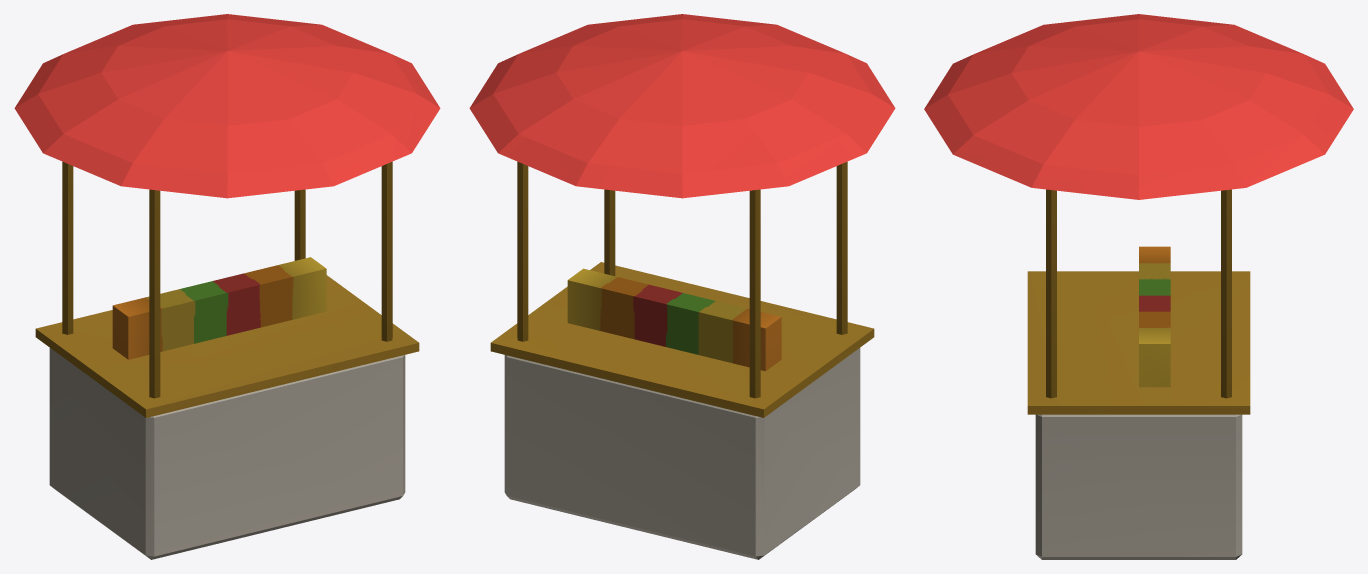
File: du_kiosk-7AOqtmyJ.glb
3 views of the same model, side by side, from view 1: azimuth 30°, elevation 25°; view 2: azimuth 150°, elevation 25°; view 3: azimuth 270°, elevation 25° (orthographic).
Size of the model in its own units: 2.7 by 3.1 by 2.7.
